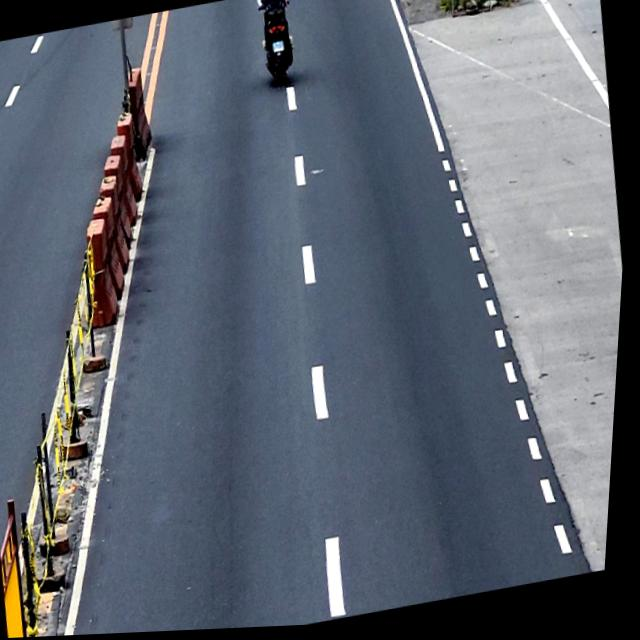License-Plate: (272, 43, 286, 55)
Motorcycle: (251, 0, 302, 91)
